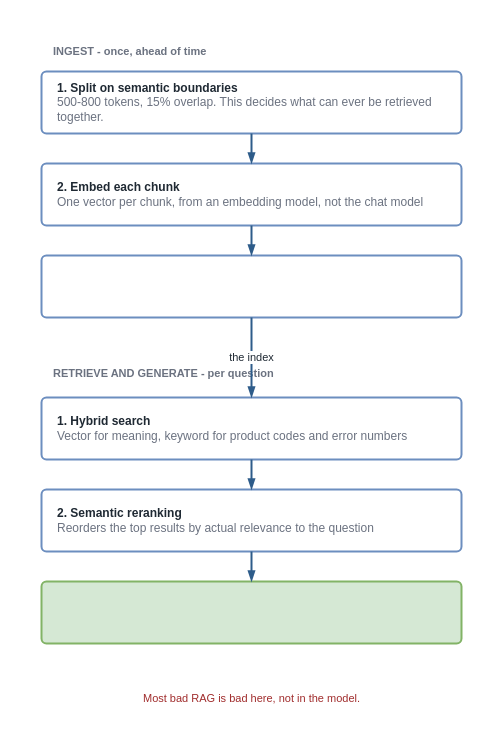
This 502x750 diagram has some shape labels left out. The centre of each missing label's shape, as x and y in pixels:
3. Answer from this context only Grounded, and able to say it does not know: [251,612]
3. Store in Azure AI Search Vector field plus the original text and its metadata: [251,286]
